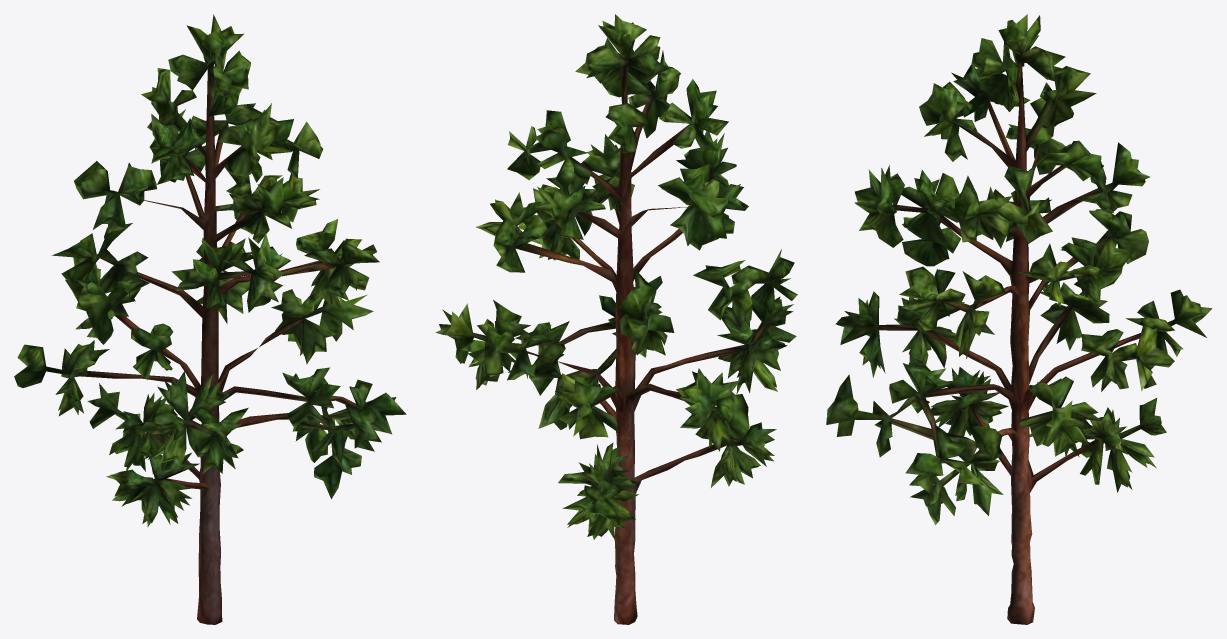
Rendered from ul_pine.glb.
3 renders of one model, left to right at view 1: azimuth 30°, elevation 25°; view 2: azimuth 150°, elevation 25°; view 3: azimuth 270°, elevation 25°, orthographic.
Parts seen in each view (by area): view 1: tripo_node_bf359675-a960-48fc-9791-7c769798ad76; view 2: tripo_node_bf359675-a960-48fc-9791-7c769798ad76; view 3: tripo_node_bf359675-a960-48fc-9791-7c769798ad76.
Part boxes in pixels (x1,y1,x2,y2): tripo_node_bf359675-a960-48fc-9791-7c769798ad76: [14, 14, 406, 624]; tripo_node_bf359675-a960-48fc-9791-7c769798ad76: [435, 14, 797, 624]; tripo_node_bf359675-a960-48fc-9791-7c769798ad76: [826, 14, 1212, 624].
Bounding box in the file's own units: 0.5628 × 0.9704 × 0.5567.
Materials: 1 (1 with a texture image).
